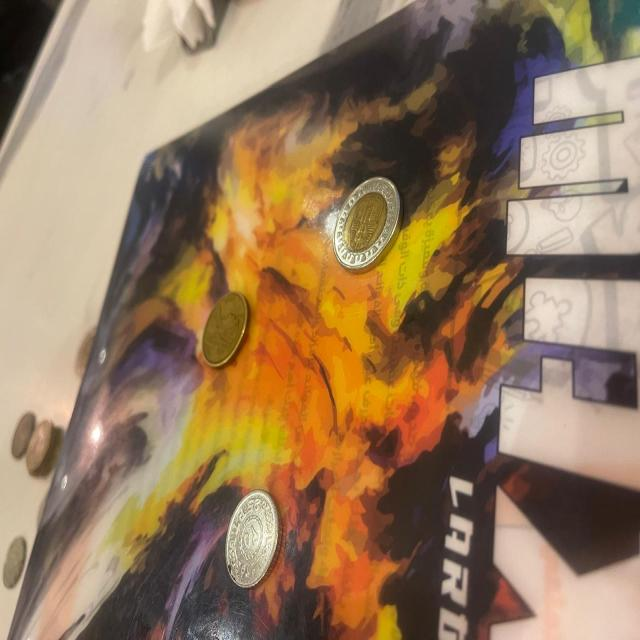Half Pound: (200, 283, 252, 366)
One Pound: (327, 172, 404, 274)
quarter pound: (222, 485, 284, 593)
